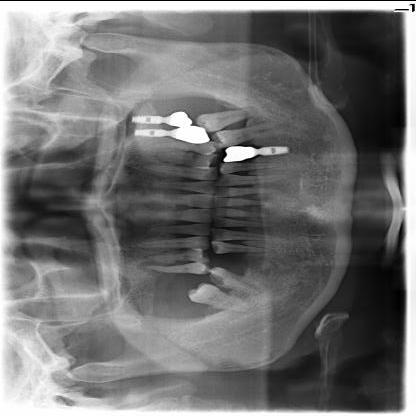Bicon: (257, 136, 292, 158), (130, 126, 166, 140), (130, 112, 157, 128)
